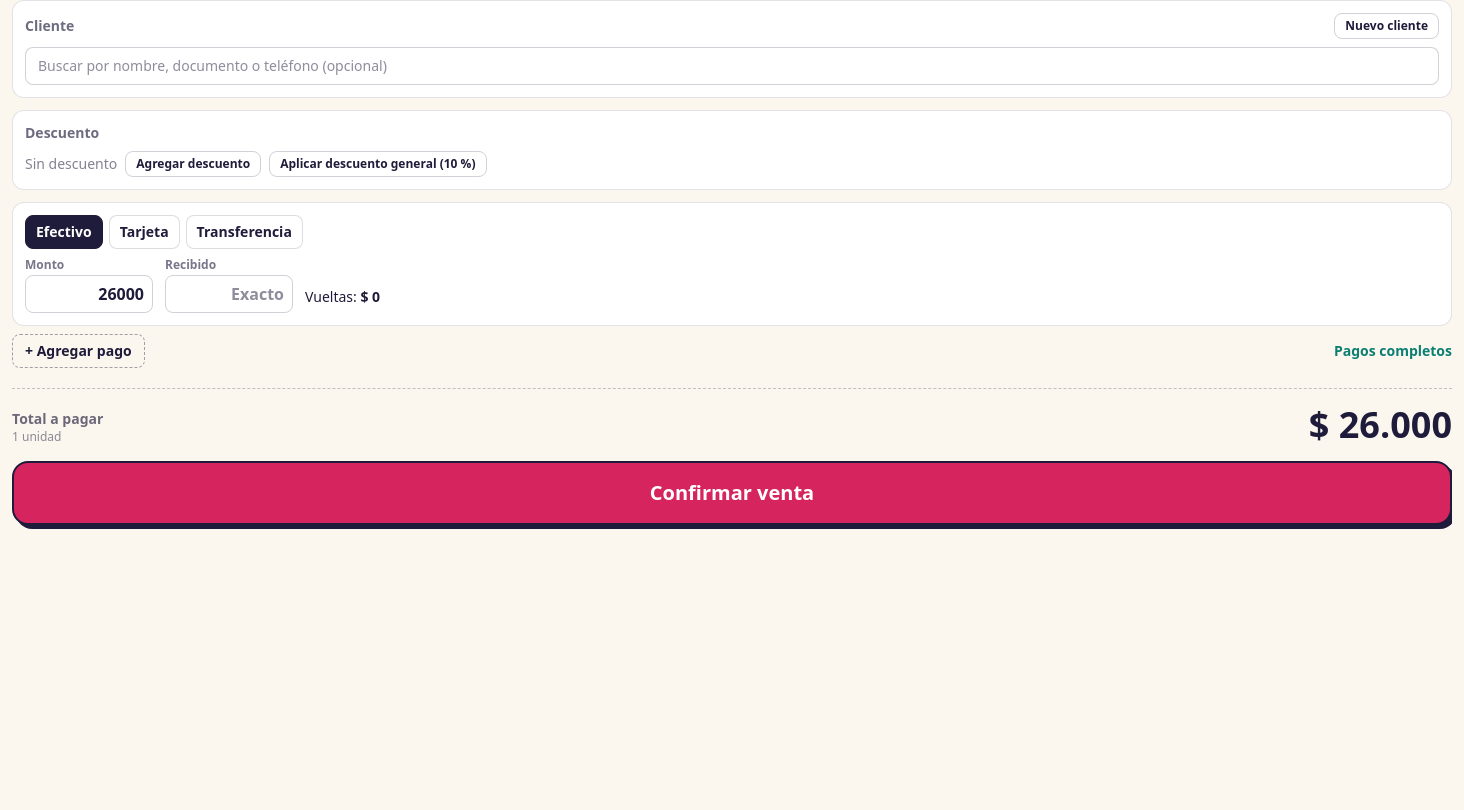
Test: Confirmar una venta sin conexion (Fase 9) › con conexion pero sin respuesta del servidor (red caida al confirmar) guarda la venta con el MISMO uuid que envio
Click the button "Confirmar venta".
click(732, 493)  # box [12, 461, 1452, 525]
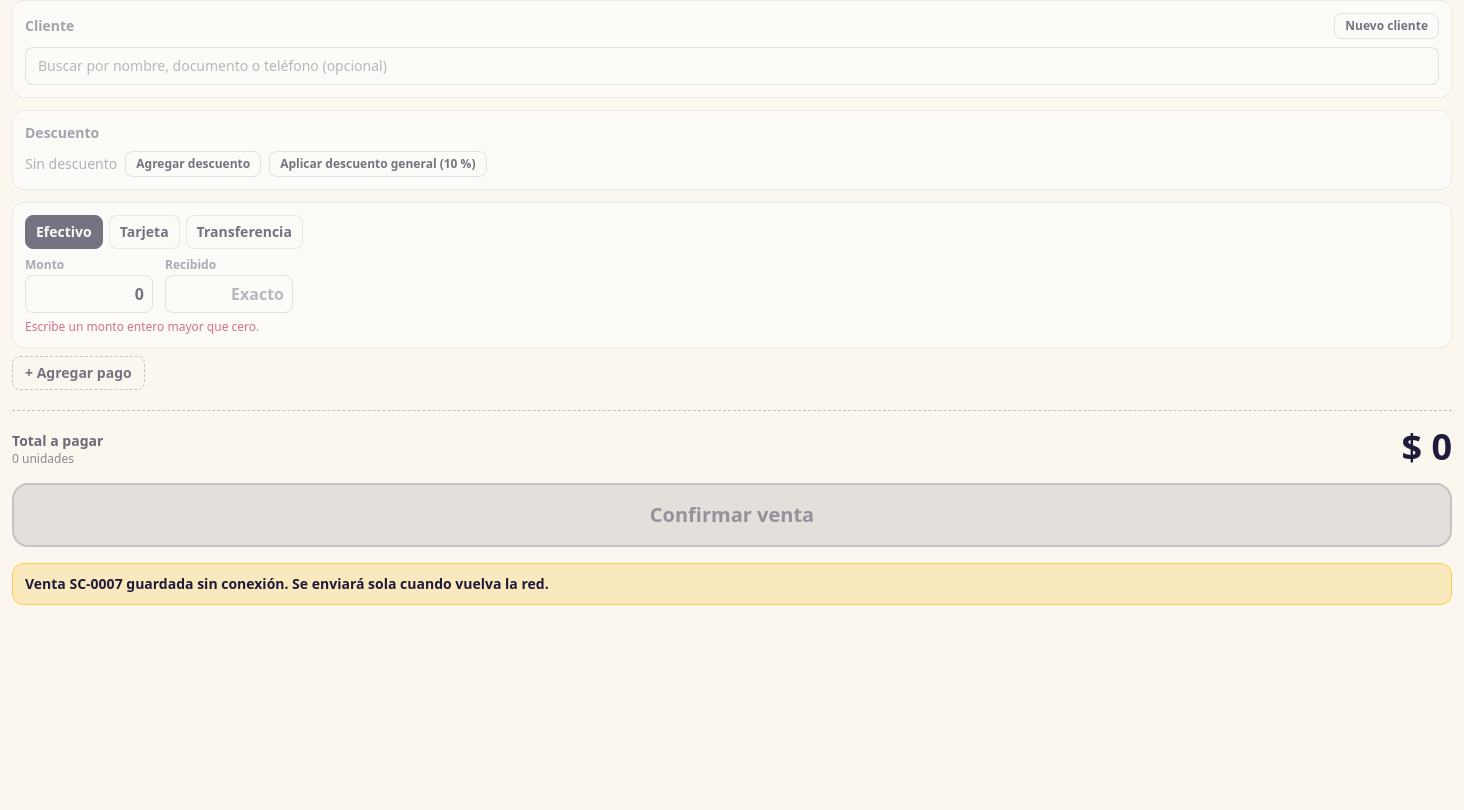
expect the text "Venta SC-0007 guardada sin conexión" is shown: met, box [12, 563, 1452, 605]
